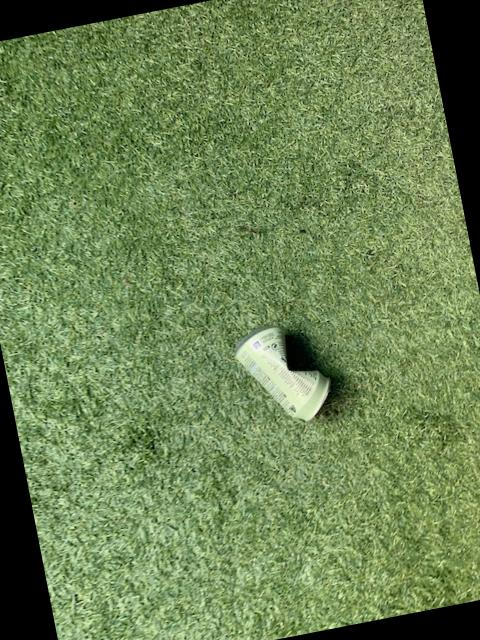metal: (233, 325, 328, 419)
